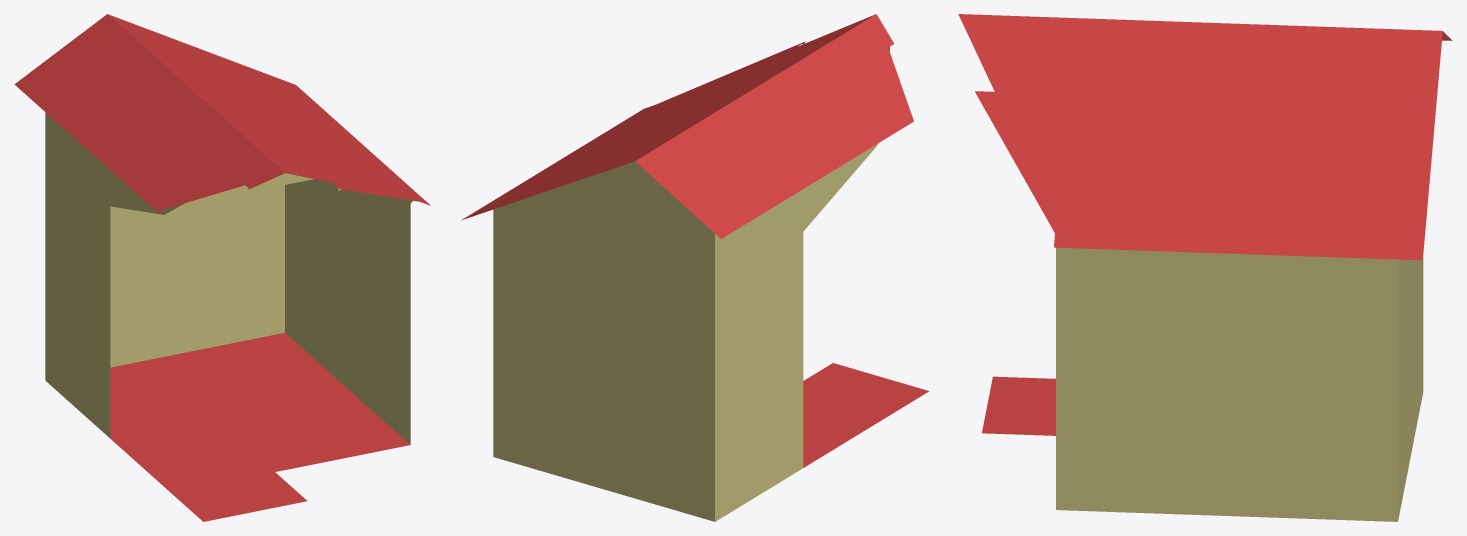
3 renders of one model, left to right at view 1: azimuth 30°, elevation 25°; view 2: azimuth 150°, elevation 25°; view 3: azimuth 270°, elevation 25°, orthographic. The views are drawn at different scales.
Bounding box in the file's own units: 10.91 × 13.67 × 12.23.
